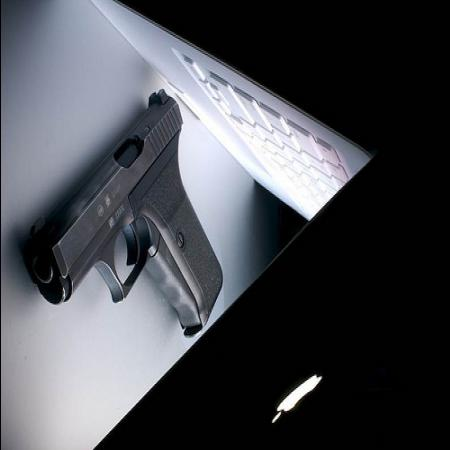Pistol: (23, 89, 225, 343)
